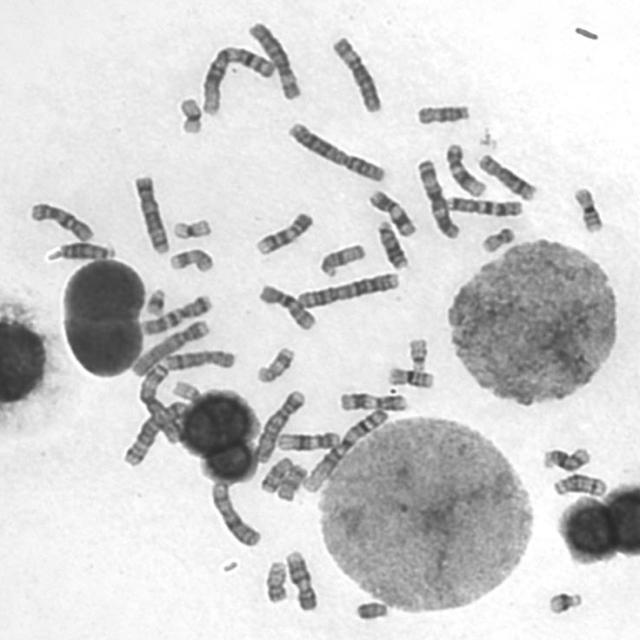A1: (298, 405, 392, 494), (198, 41, 276, 117)
A2: (282, 118, 388, 184), (292, 268, 401, 310)
A3: (413, 155, 462, 240), (136, 360, 182, 444)
B4: (126, 316, 211, 378), (250, 386, 306, 464)
B5: (119, 399, 191, 468), (129, 170, 172, 256)
C10: (255, 281, 317, 332), (25, 198, 95, 243)
C11: (365, 187, 418, 238), (334, 389, 410, 413)
C12: (442, 139, 488, 198), (273, 427, 342, 453)
C6: (244, 17, 304, 102), (328, 32, 384, 114)
C7: (137, 291, 214, 336), (442, 192, 524, 218)
C8: (474, 150, 539, 202), (160, 346, 237, 373)
C9: (251, 208, 315, 257), (281, 546, 320, 612)
D13: (373, 217, 410, 271), (48, 239, 116, 262)
D14: (538, 442, 593, 473), (550, 470, 608, 498)
D15: (316, 240, 367, 278), (412, 101, 472, 126)
E16: (570, 183, 605, 234), (384, 363, 436, 390)
E17: (252, 343, 297, 385), (166, 246, 215, 274)
E18: (256, 454, 294, 495), (272, 460, 309, 502)
F19: (175, 94, 204, 136), (169, 215, 214, 241)
F20: (261, 558, 289, 605), (478, 223, 516, 254)
G21: (544, 587, 584, 616), (142, 284, 168, 318)
G22: (167, 378, 210, 409), (404, 334, 430, 371)
X: (206, 478, 264, 549)
Y: (352, 598, 391, 622)
